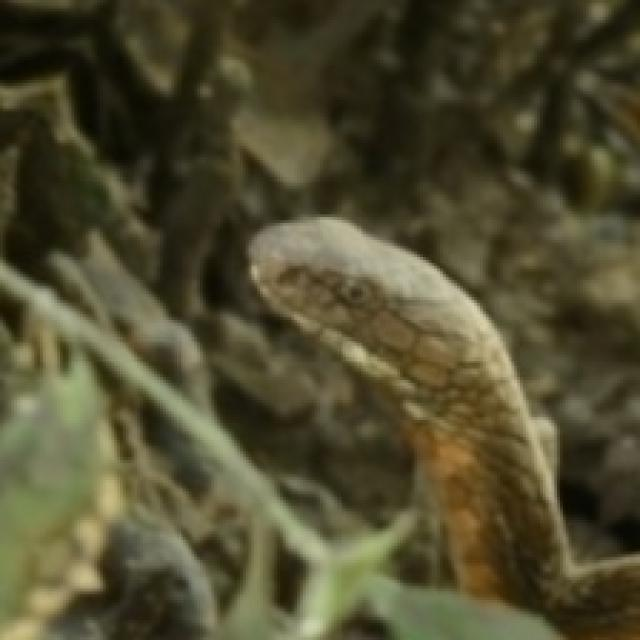king cobra: (249, 217, 637, 637)
